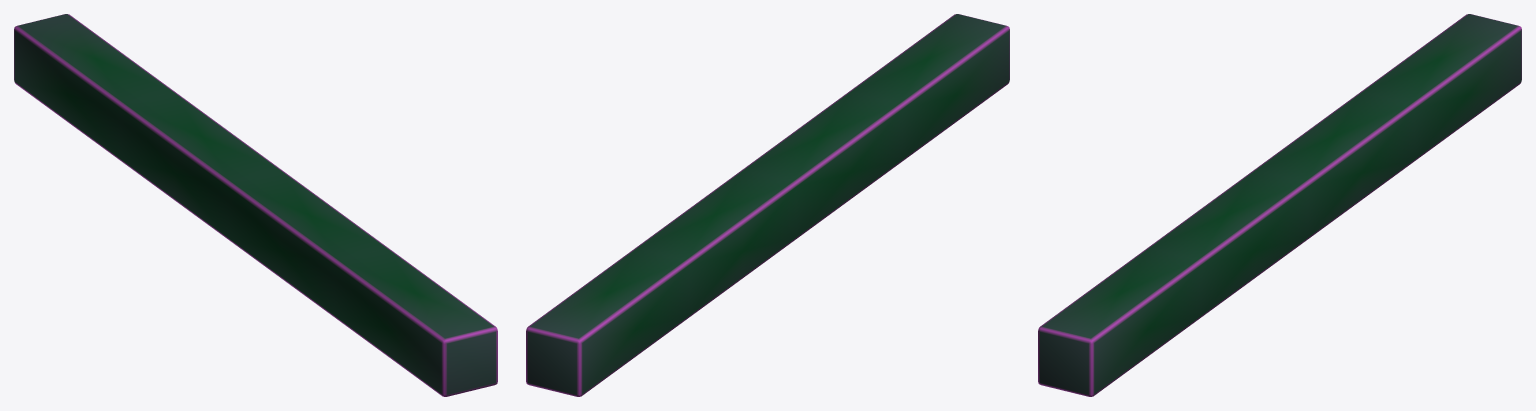
The model's file is diagonal_pillar_01.fbx.
3 renders of one model, left to right at view 1: azimuth 30°, elevation 25°; view 2: azimuth 150°, elevation 25°; view 3: azimuth 330°, elevation 25°, orthographic.
Visible parts, largest first — view 1: diagonal_pillar_01; view 2: diagonal_pillar_01; view 3: diagonal_pillar_01.
Part boxes in pixels (x1=…): diagonal_pillar_01: x1=14, y1=14, x2=497, y2=396; diagonal_pillar_01: x1=526, y1=14, x2=1009, y2=396; diagonal_pillar_01: x1=1038, y1=14, x2=1521, y2=396.
Size of the model in its own units: 0.075 by 0.075 by 1.
